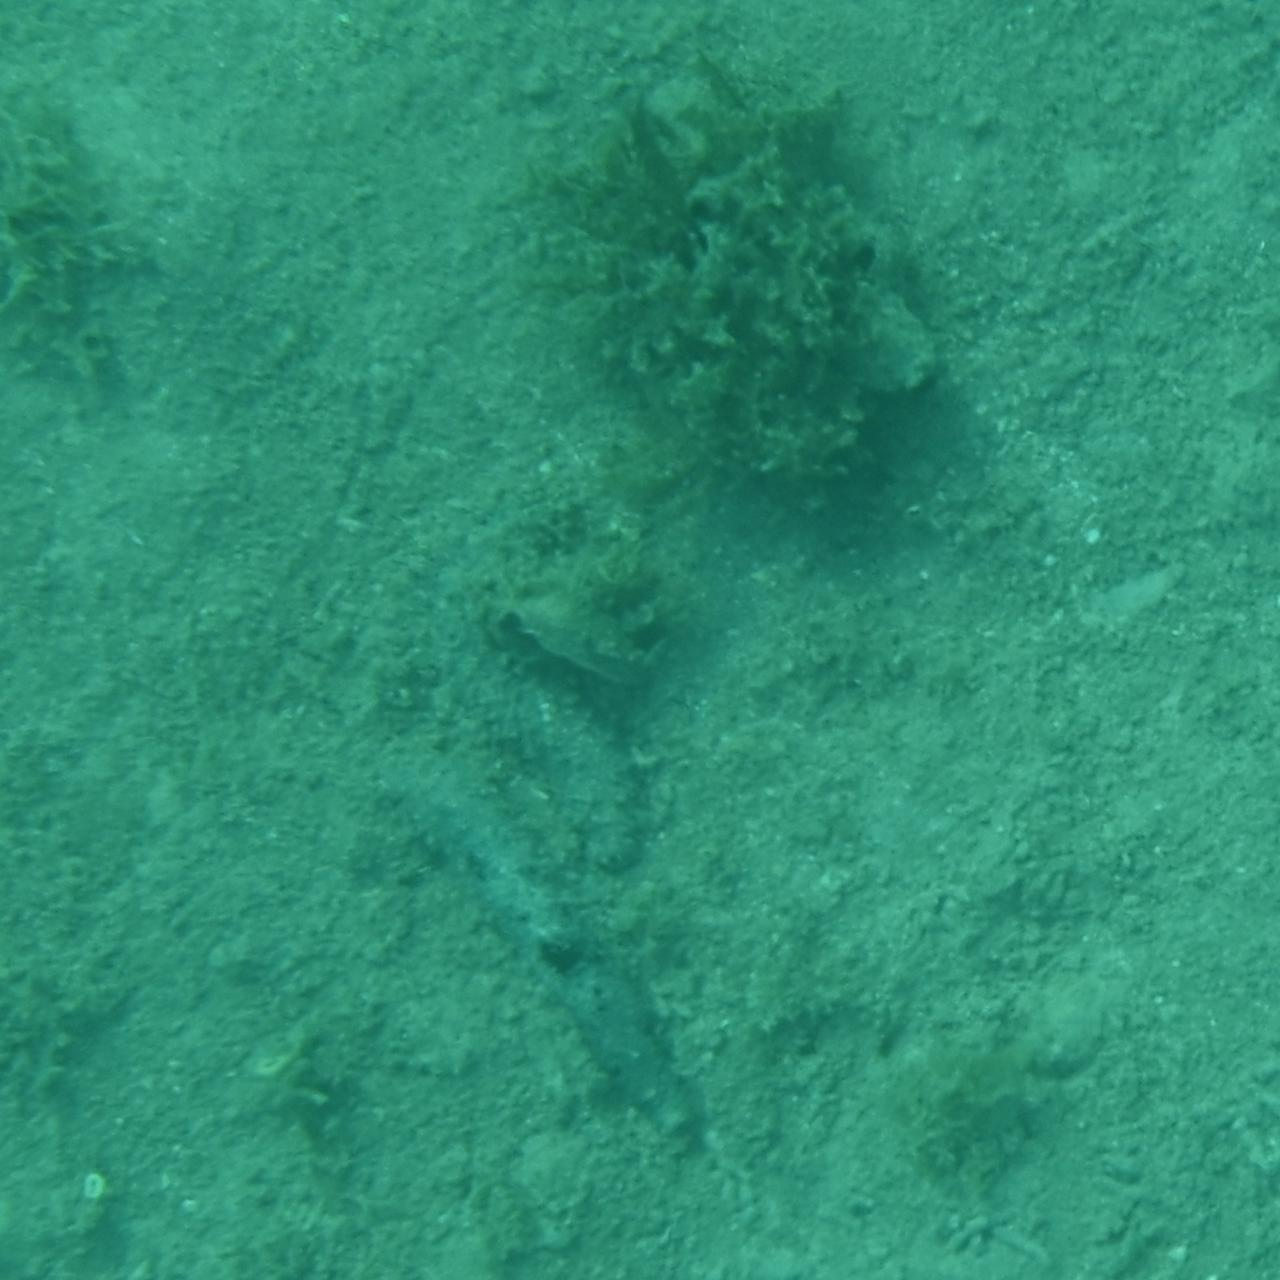Holothuria tubulosa: (309, 719, 735, 1203), (407, 665, 675, 881)
Phaeophyceae -cfr Cystoseira-: (549, 66, 968, 574)
